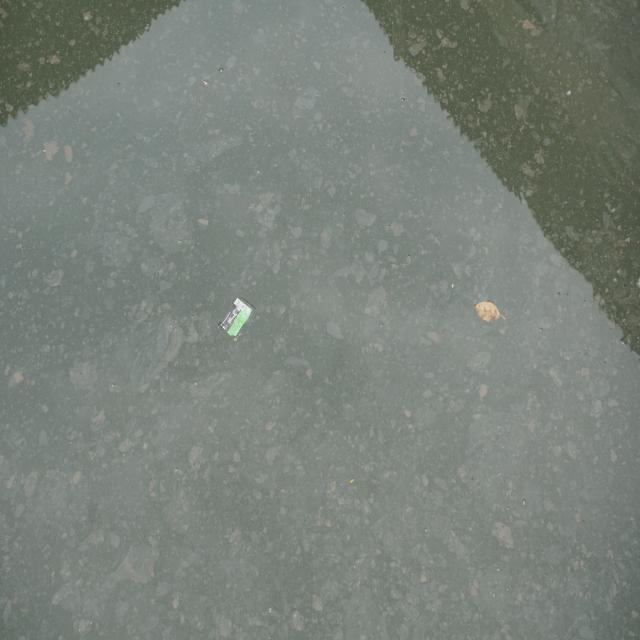Bungkus Makanan: (216, 289, 259, 346)
